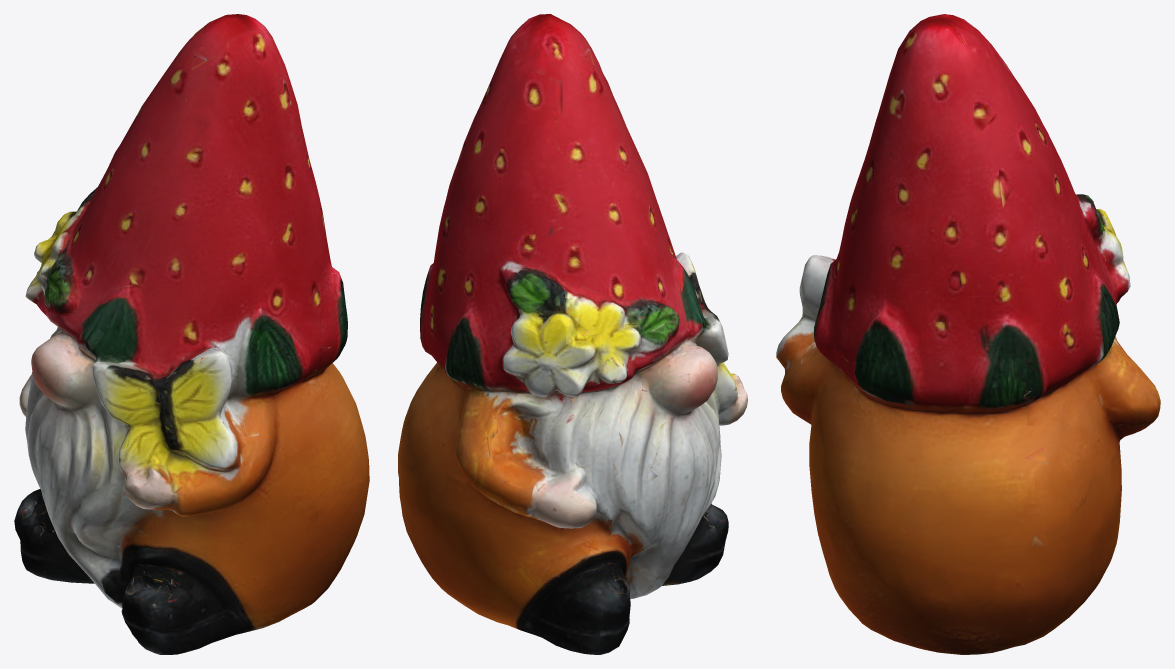
The model's file is table_gnome.glb.
The picture shows the model from 3 angles, left to right: view 1: azimuth 30°, elevation 25°; view 2: azimuth 150°, elevation 25°; view 3: azimuth 270°, elevation 25°; orthographic projection. The views are drawn at different scales.
Parts seen in each view (by area): view 1: table_gnome; view 2: table_gnome; view 3: table_gnome.
Part boxes in pixels (x1=…): table_gnome: x1=14, y1=14, x2=369, y2=654; table_gnome: x1=398, y1=14, x2=747, y2=654; table_gnome: x1=776, y1=14, x2=1160, y2=654.
Size of the model in its own units: 0.1083 by 0.195 by 0.1138.
Materials: 1 (1 with a texture image).
